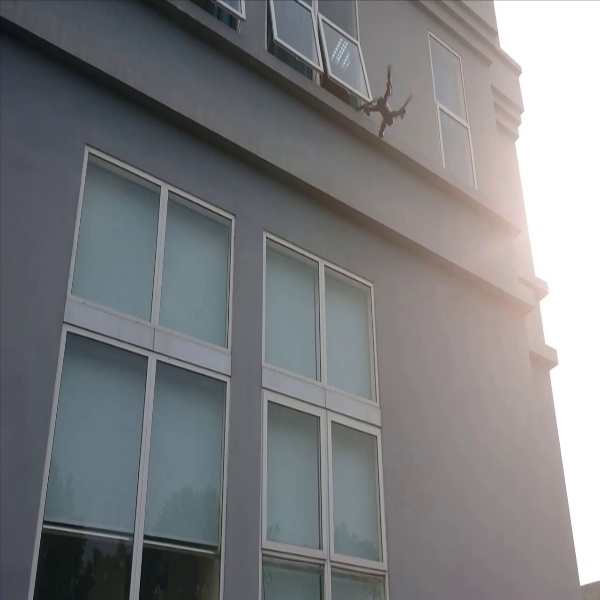drone: (346, 60, 419, 156)
